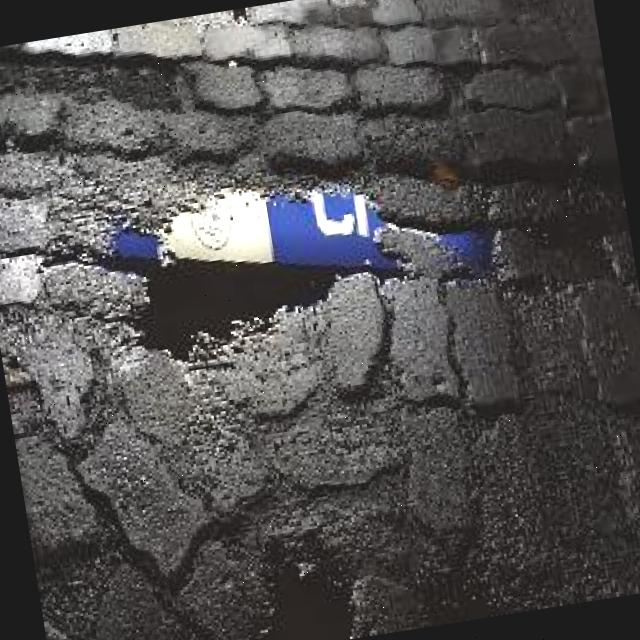stagnation: (96, 130, 423, 363)
